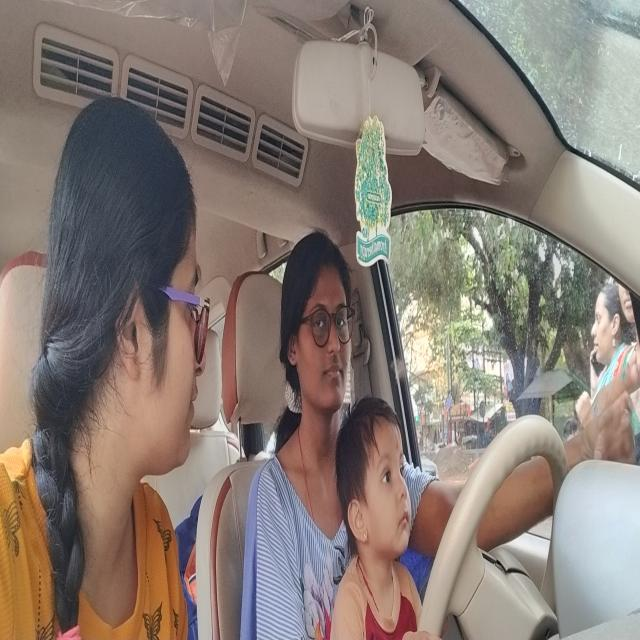child: (333, 384, 416, 565)
person: (43, 94, 213, 480), (278, 212, 354, 422)
